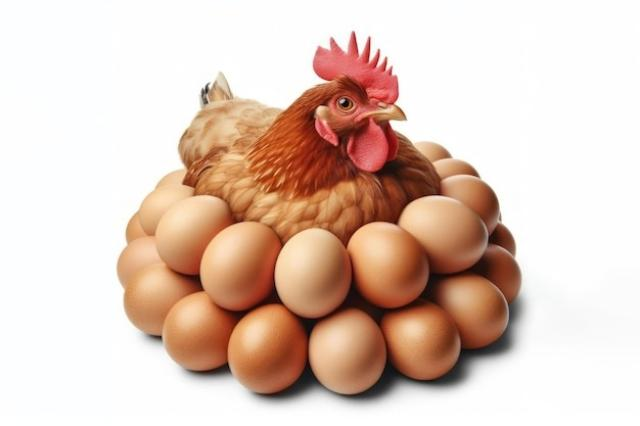Chicken: (178, 30, 442, 247)
